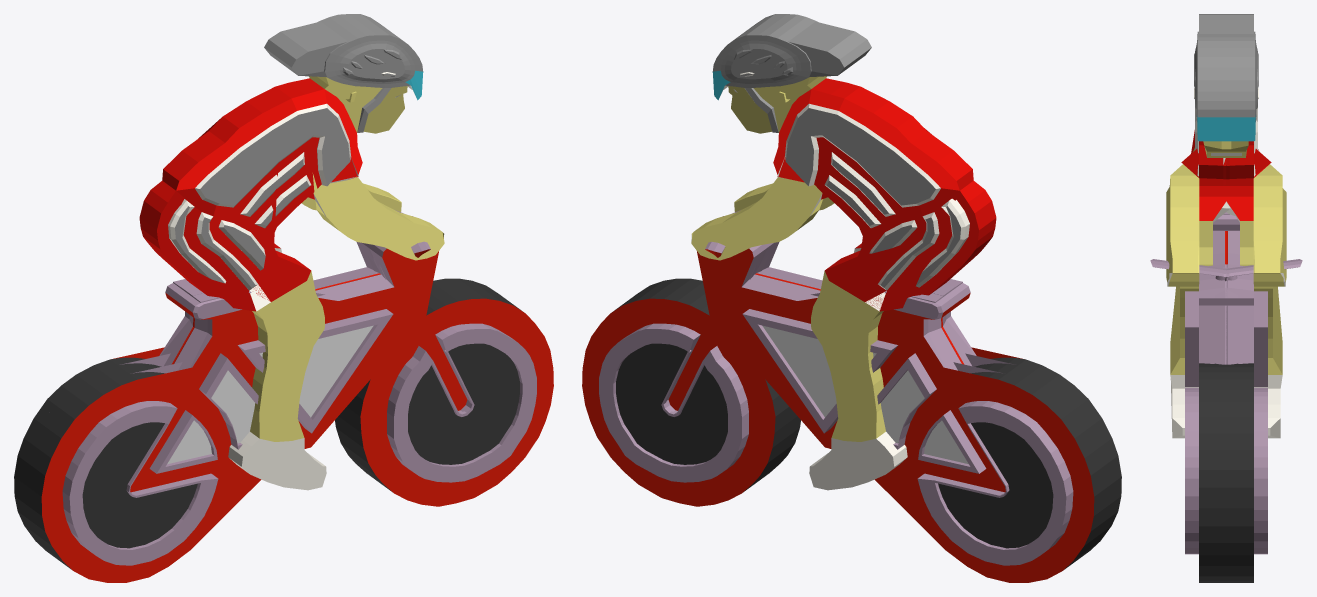
Rendered from Bike.fbx.
The picture shows the model from 3 angles, left to right: view 1: azimuth 30°, elevation 25°; view 2: azimuth 150°, elevation 25°; view 3: azimuth 270°, elevation 25°; orthographic projection.
Visible parts, largest first — view 1: Cube, Cube.001; view 2: Cube, Cube.001; view 3: Cube, Cube.001.
Boxes of the visible parts, x1=… form: Cube: x1=14, y1=210, x2=553, y2=582; Cube.001: x1=139, y1=14, x2=444, y2=490; Cube: x1=582, y1=210, x2=1121, y2=582; Cube.001: x1=691, y1=14, x2=996, y2=490; Cube: x1=1150, y1=212, x2=1302, y2=582; Cube.001: x1=1166, y1=14, x2=1286, y2=438.
Bounding box in the file's own units: 417 × 382 × 108.
